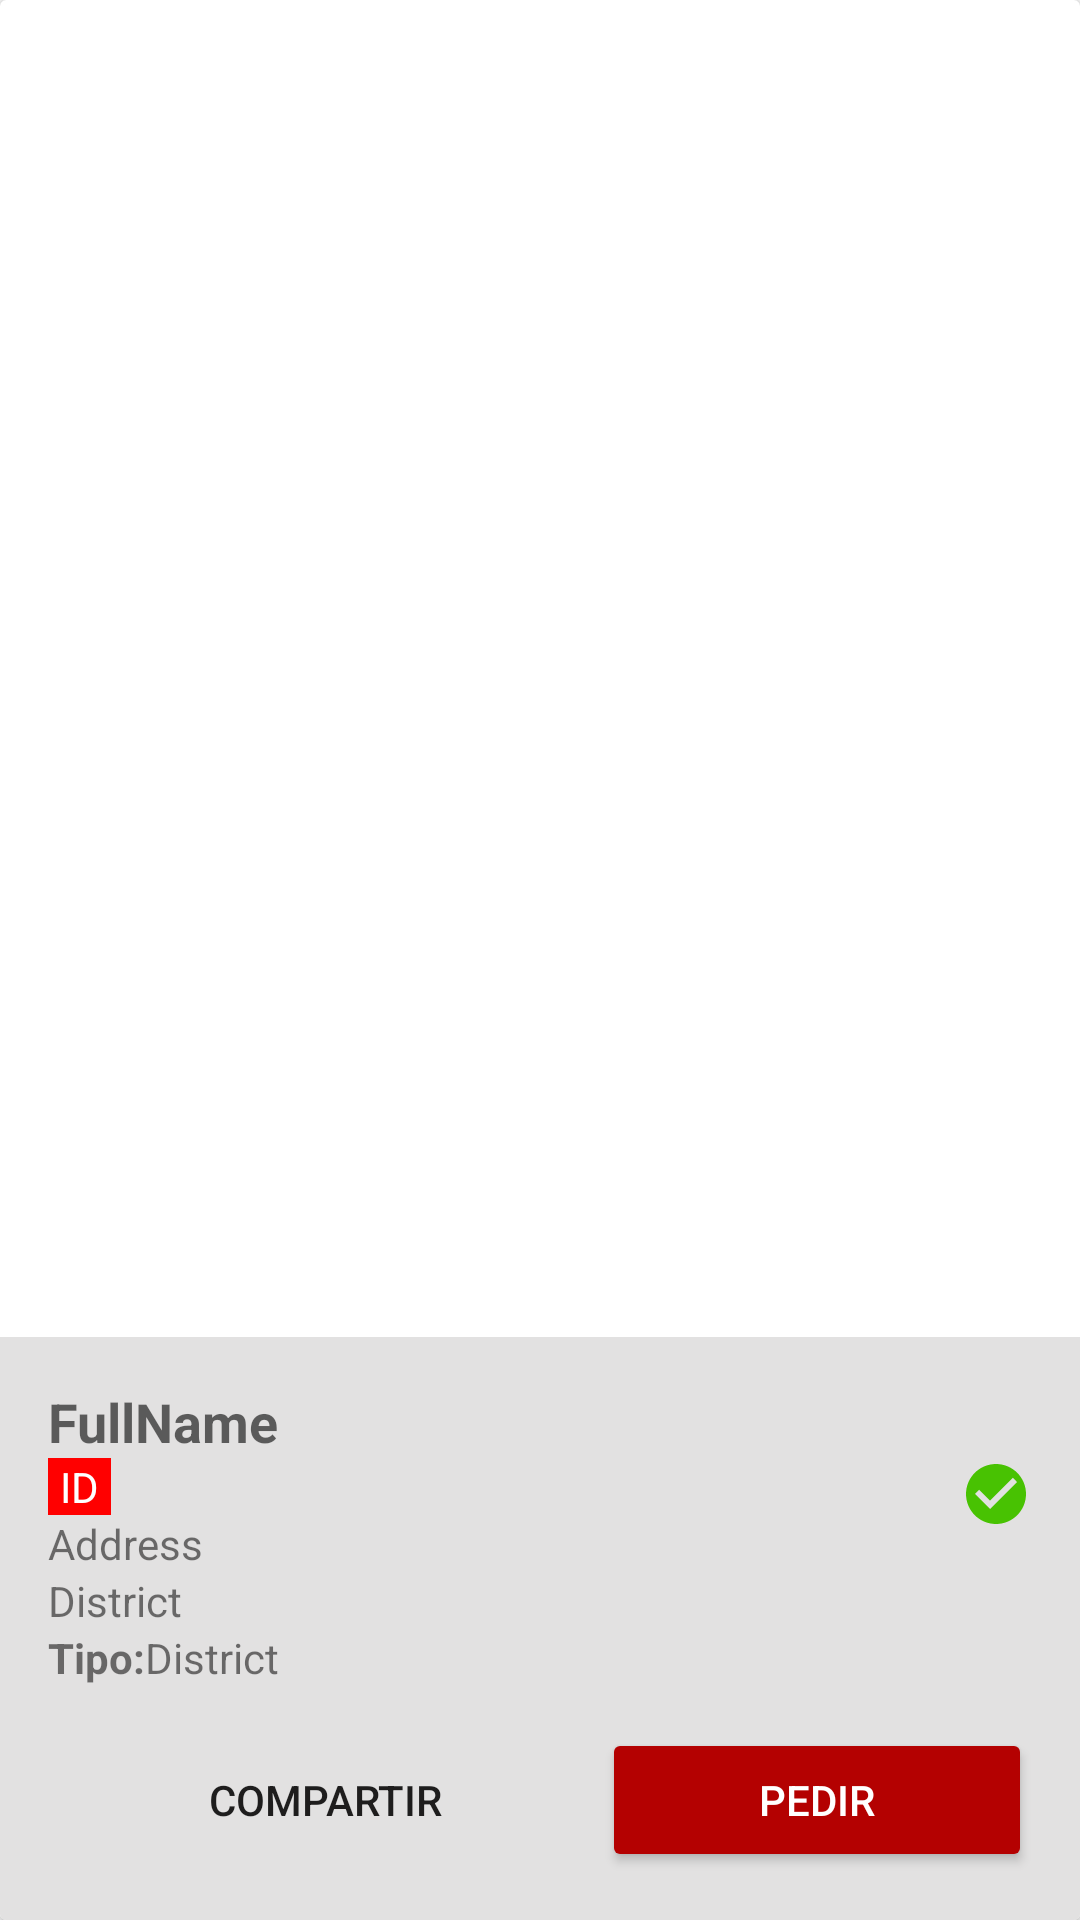

Icons on this 1080 × 1920 Android screen, each with its box as region(x1, y1, x2, y2):
check circle: region(966, 1464, 1026, 1524)
